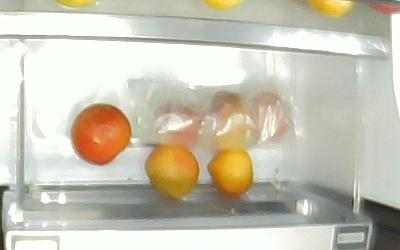prune: (69, 100, 131, 166), (143, 143, 199, 199), (205, 147, 253, 196)
prune_vinyl: (208, 88, 259, 151), (150, 103, 204, 151), (248, 90, 293, 145)
